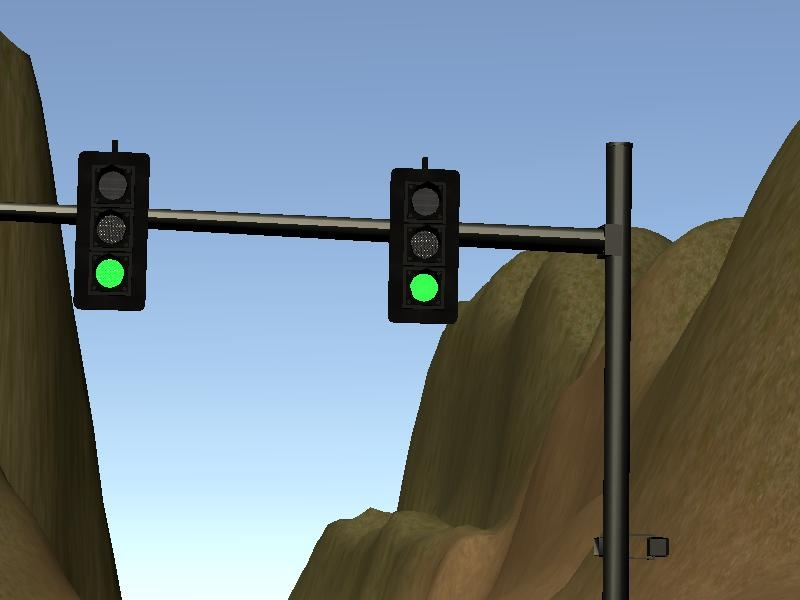GREEN: (75, 151, 147, 311), (389, 168, 460, 324)
